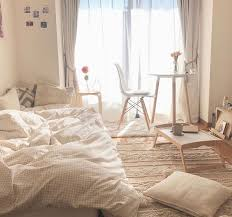Bed: (0, 81, 139, 217)
Chair: (112, 61, 158, 129)
Table: (152, 119, 227, 174), (144, 66, 195, 124)
curtain: (174, 0, 203, 120), (60, 1, 86, 92)
